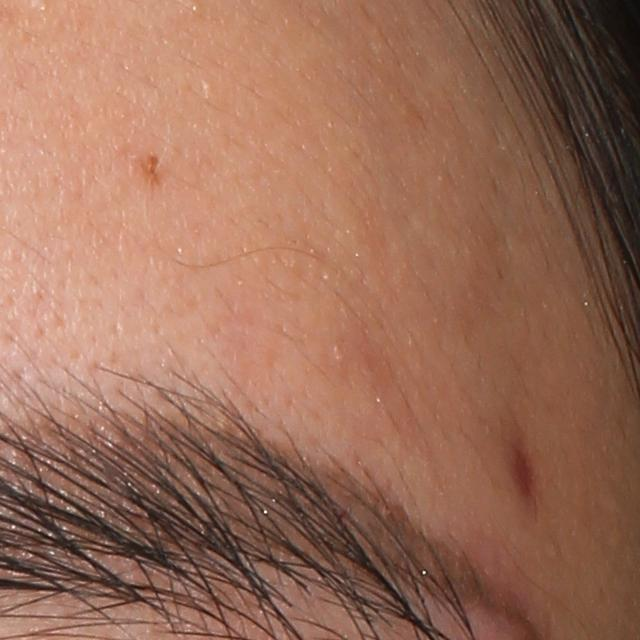nevus: (139, 152, 163, 183)
